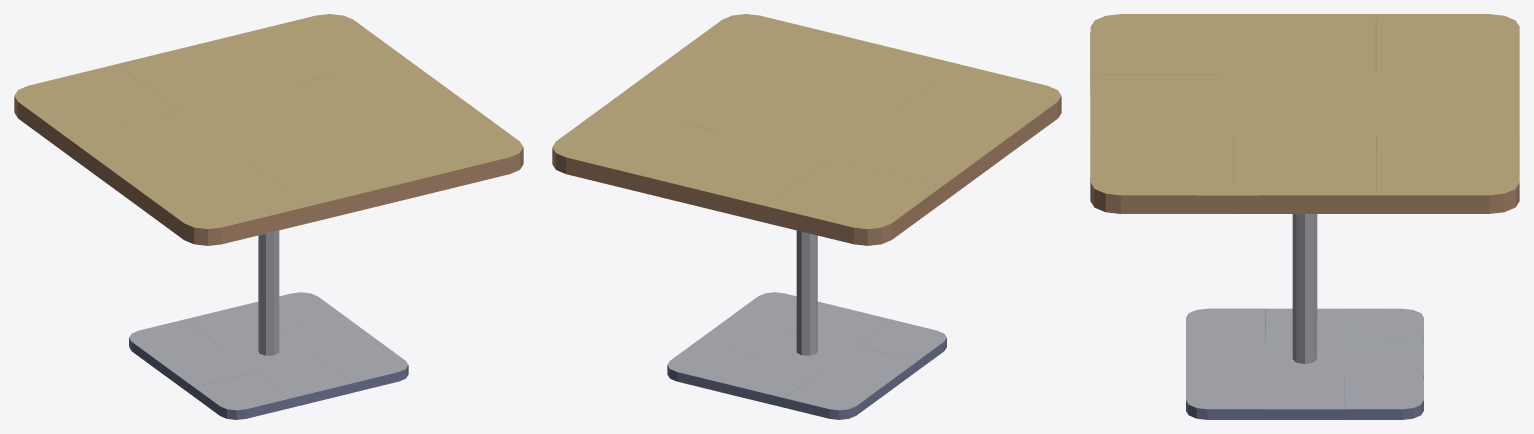
Rendered from MejaKecil.fbx.
The picture shows the model from 3 angles, left to right: view 1: azimuth 30°, elevation 25°; view 2: azimuth 150°, elevation 25°; view 3: azimuth 270°, elevation 25°; orthographic projection. The views are drawn at different scales.
Visible parts, largest first — view 1: 3 Meja kecil; view 2: 3 Meja kecil; view 3: 3 Meja kecil.
Boxes of the visible parts, <box> form: 3 Meja kecil: <box>14,14,523,419</box>; 3 Meja kecil: <box>552,14,1061,419</box>; 3 Meja kecil: <box>1090,14,1519,419</box>.
Bounding box in the file's own units: 215 × 146 × 215.
